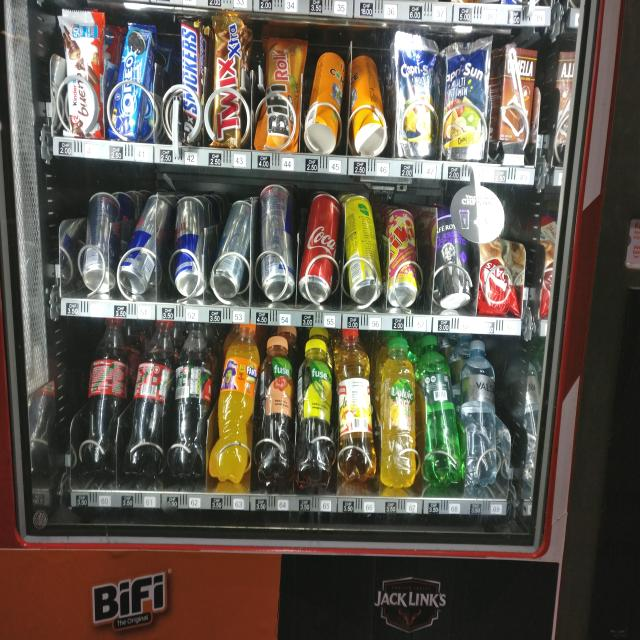7days_croissantschoko_packung_80_1_0000000000003: (475, 214, 515, 311)
bifi_roll__50__4251097402635: (259, 33, 302, 150)
bueno___43__4008400320328: (57, 10, 105, 138)
c-swiss_dosenabisicetea__33__9120025930135: (308, 49, 345, 154), (350, 54, 388, 156)
caferoyal_classicmacchiato__33__7617014164487: (429, 204, 476, 311)
caprisun_multivitamin__20__4000177605004: (392, 28, 441, 156), (444, 36, 489, 159)
coke__dose_33__54491472: (301, 190, 340, 304)
coke__flasche_50__54491472: (80, 309, 130, 472), (130, 319, 173, 472), (172, 323, 214, 473)
comella_schokodrink__33__7613100037253: (493, 37, 542, 153)
fanta___50__40822938: (213, 320, 257, 480)
fuse_lemon__50__5449000235947: (294, 334, 335, 483)
fuse_lemon_dose_33__5449000235947: (343, 193, 384, 297)
fuse_peach__50__5449000236623: (254, 331, 295, 478)
oreo___66__84100733: (114, 20, 152, 142)
ramseier_schorle__50__7610057012456: (332, 328, 378, 482)
redbull___33__90162909: (257, 181, 298, 301), (120, 191, 166, 291), (210, 197, 251, 295), (80, 190, 118, 292), (170, 195, 208, 296)
snickers___50__5000159461122: (178, 16, 205, 143)
tiki_himbeer_brause__50__00000000009342: (382, 204, 420, 306)
twix___50__5000159459228: (212, 10, 246, 149)
valser_classic__50__76404160: (415, 335, 468, 487)
valser_still__50__7610335002575: (456, 338, 503, 486)
volvic_pinapple__50__305764335648: (375, 334, 421, 480)
